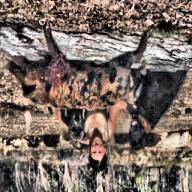boar: (5, 23, 153, 112)
